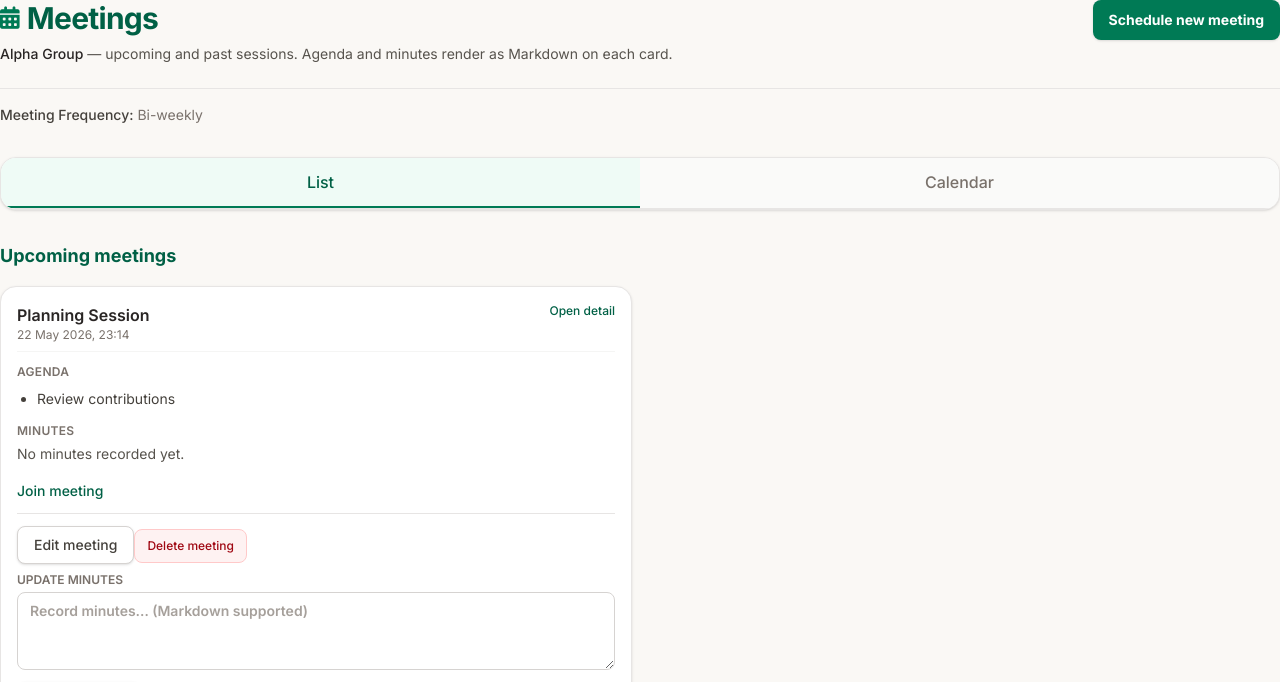
Test: Meetings page › switches to calendar view and opens/closes day panel from selected date
Expected: the text "Planning Session" is shown, [17,305,150,325]
Click the button "Calendar": {"x": 960, "y": 183} [640,158,1279,208]
(page scrolled)
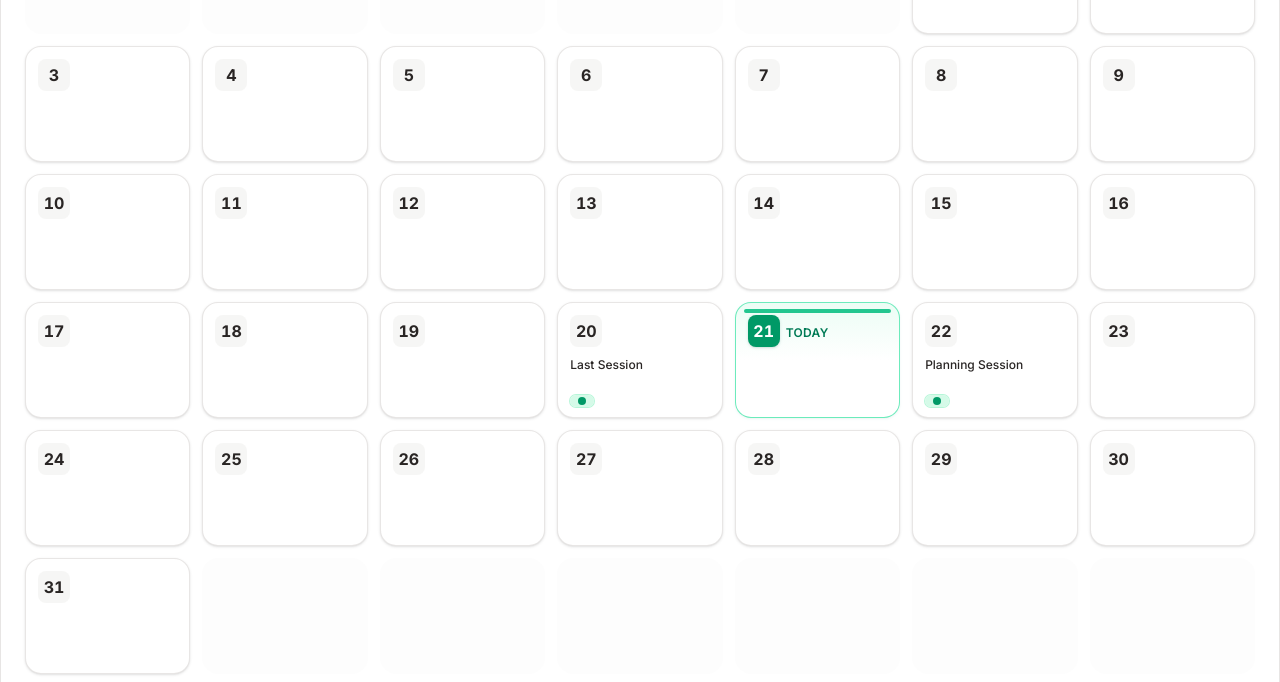
Expected: the button "22 Planning Session" is shown
Click the button "22 Planning Session": {"x": 995, "y": 360} [912,302,1078,418]
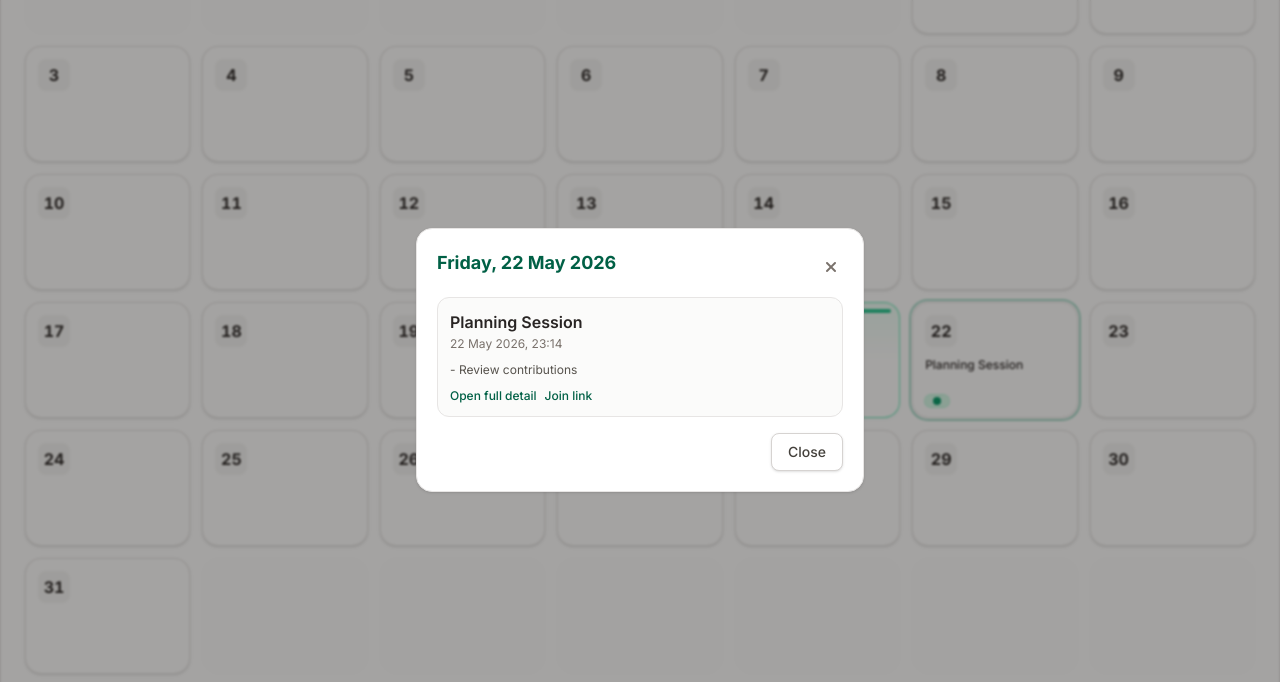
Expected: the text "Planning Session" is shown, [450,312,582,332]
Press Escape
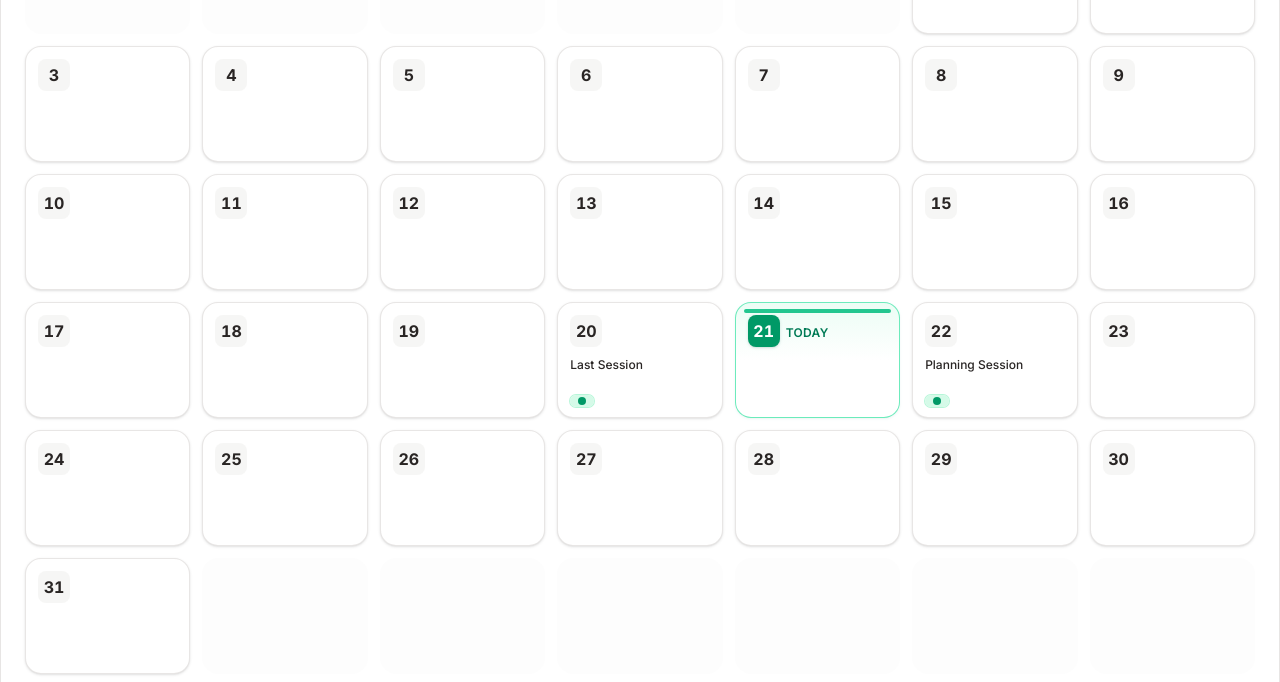
Expected: the dialog is gone
